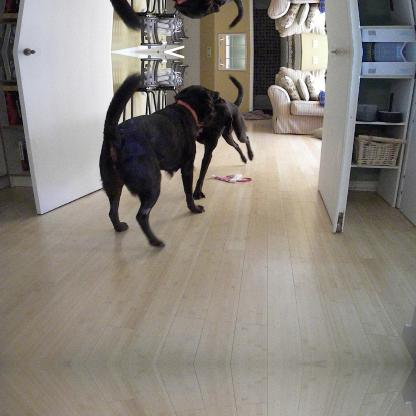Dog: (98, 70, 220, 245), (172, 72, 252, 198), (172, 0, 253, 33)
